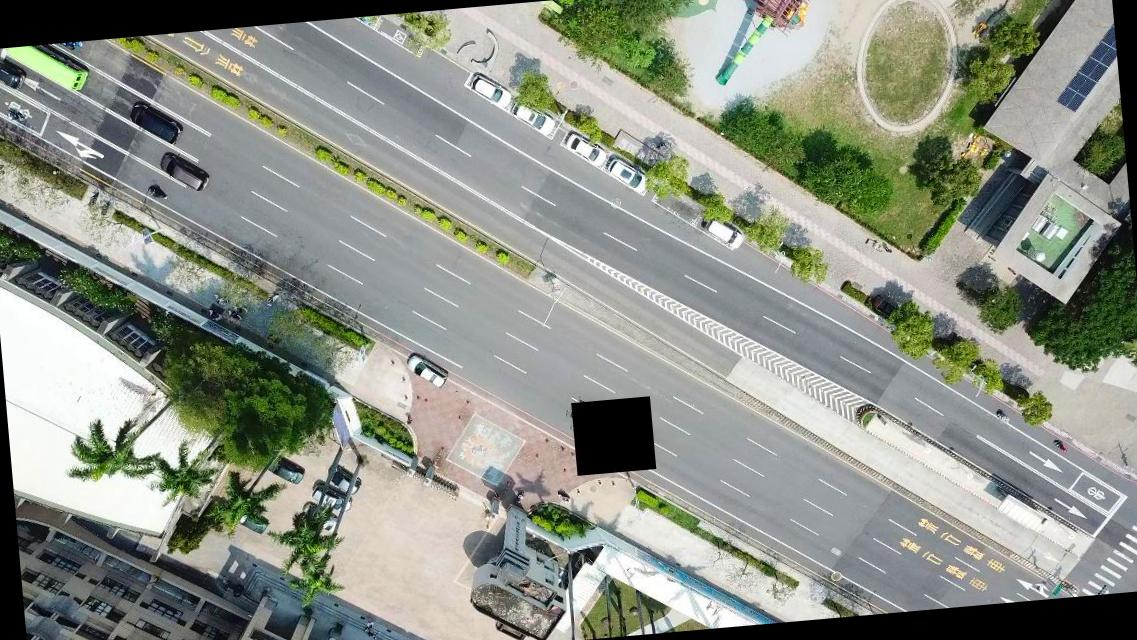vehicle: (128, 102, 182, 144), (159, 152, 207, 193), (606, 153, 649, 196), (568, 127, 610, 170), (406, 351, 446, 391), (704, 208, 741, 250), (471, 72, 510, 110), (226, 506, 272, 538), (311, 478, 351, 513), (514, 100, 554, 134), (299, 502, 335, 538), (0, 48, 28, 94), (269, 454, 306, 486), (328, 463, 360, 496)
